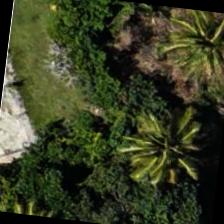Kelapa_Sawit: (119, 95, 218, 195), (153, 5, 223, 98)
